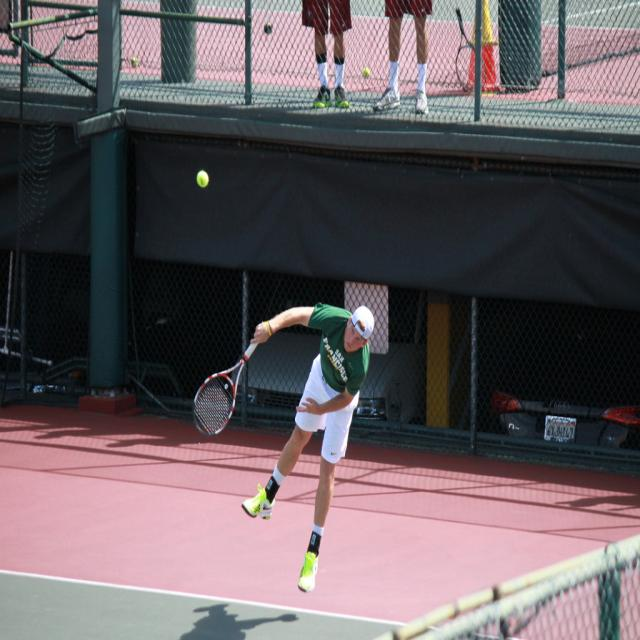Tennis ball: (197, 170, 207, 186)
